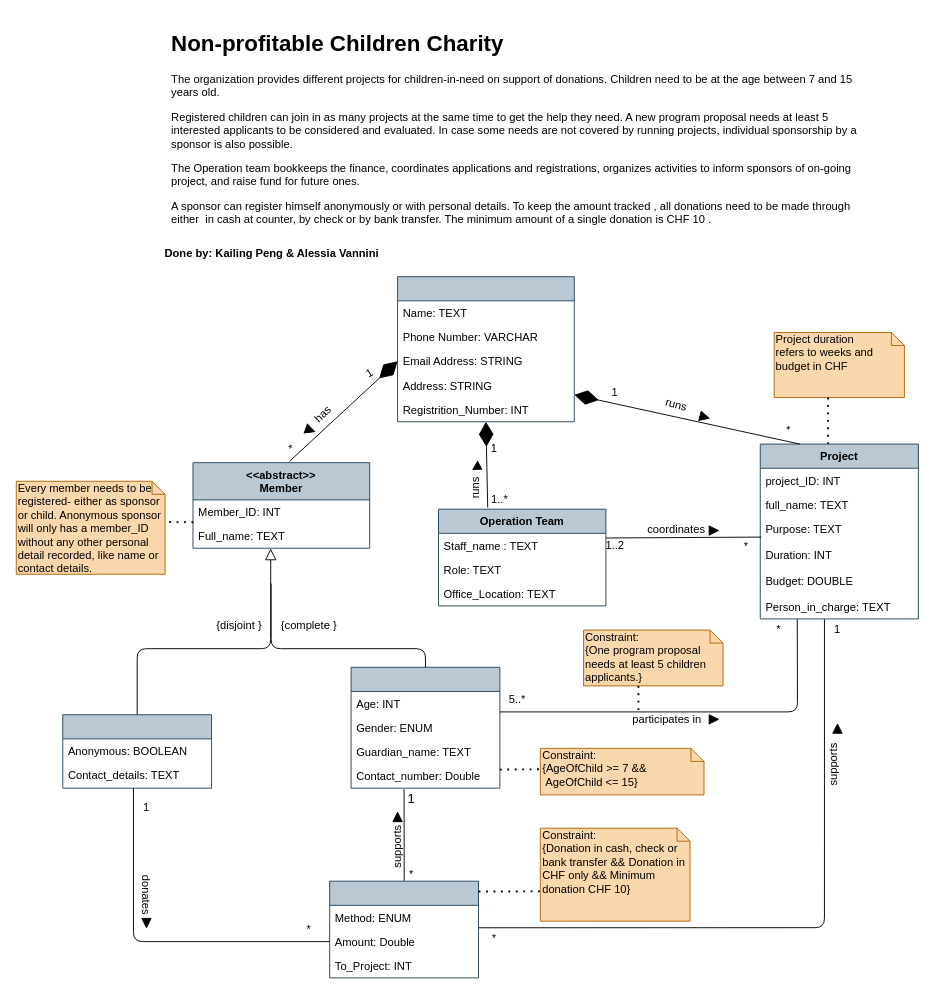
This 935x996 diagram has some shape labels left out. Here are the shapes that lost their labels. From the top down, the box of each, then its label:
(397, 276, 574, 422): ChildrenCharityOrganisation
(350, 666, 500, 788): Child
(62, 714, 212, 788): Sponsor
(329, 880, 478, 978): Donation
